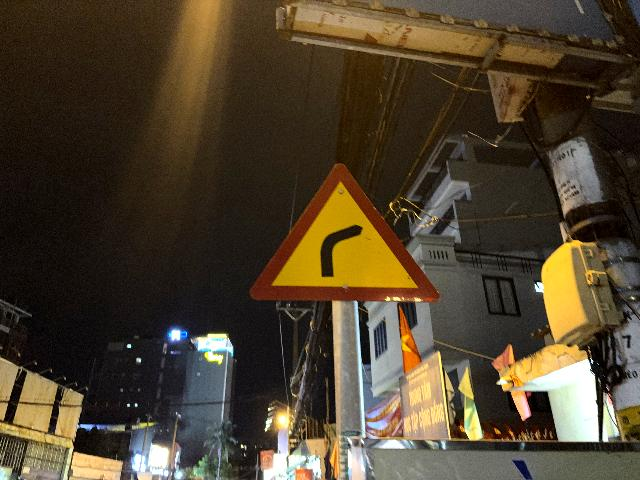cho-ngoat-nguy-hiem-ben-phai: (251, 162, 440, 302)
